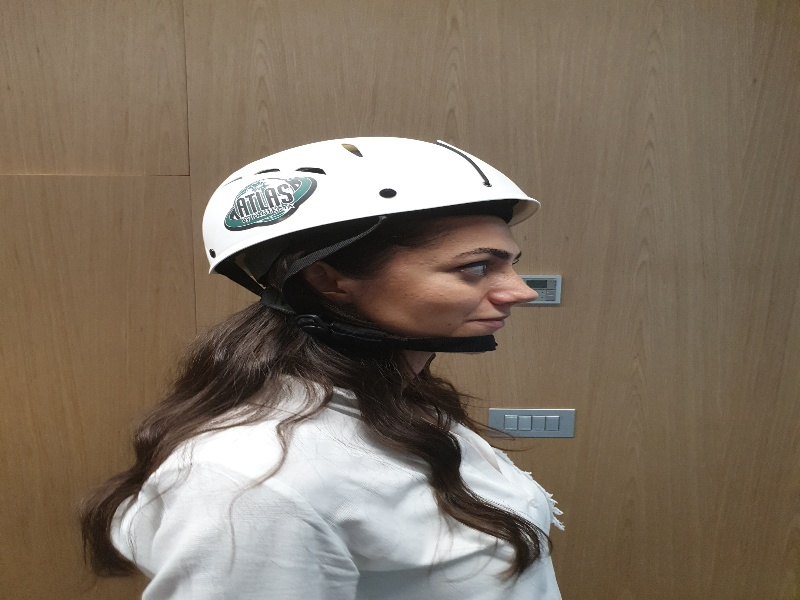Baret: (200, 135, 546, 267)
